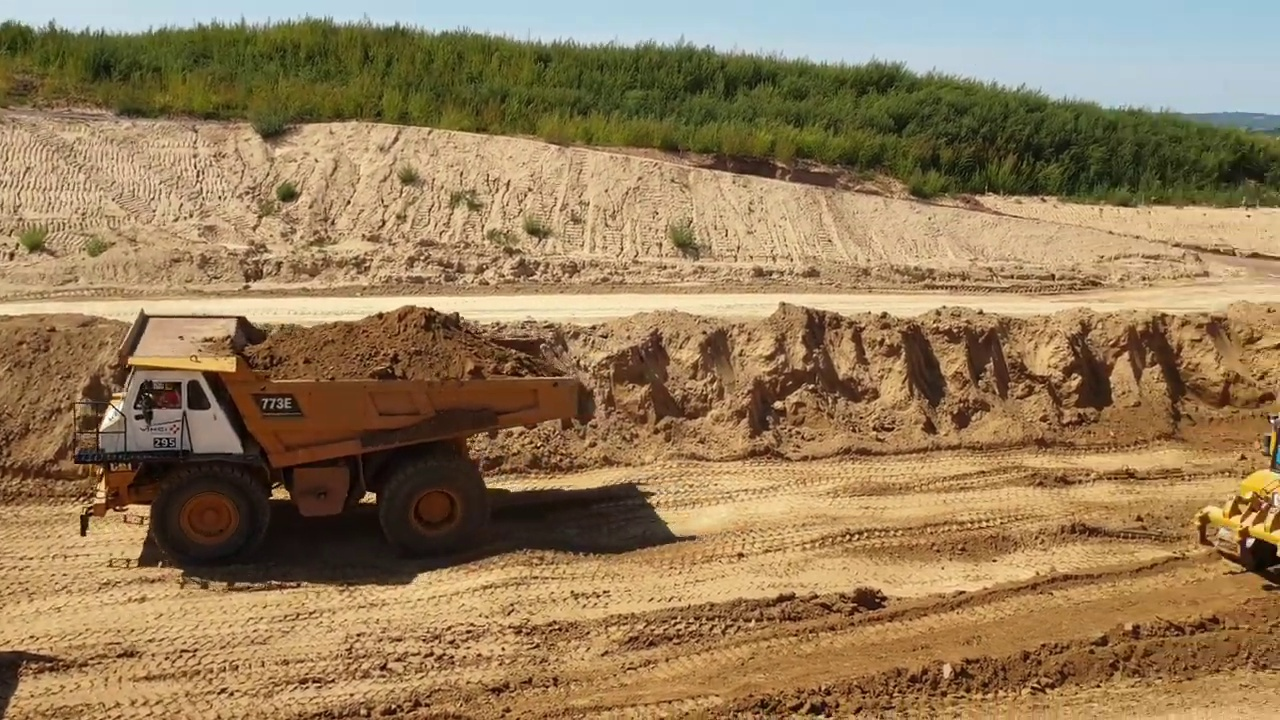bulldozer: (1191, 410, 1280, 582)
truck: (67, 303, 595, 571)
